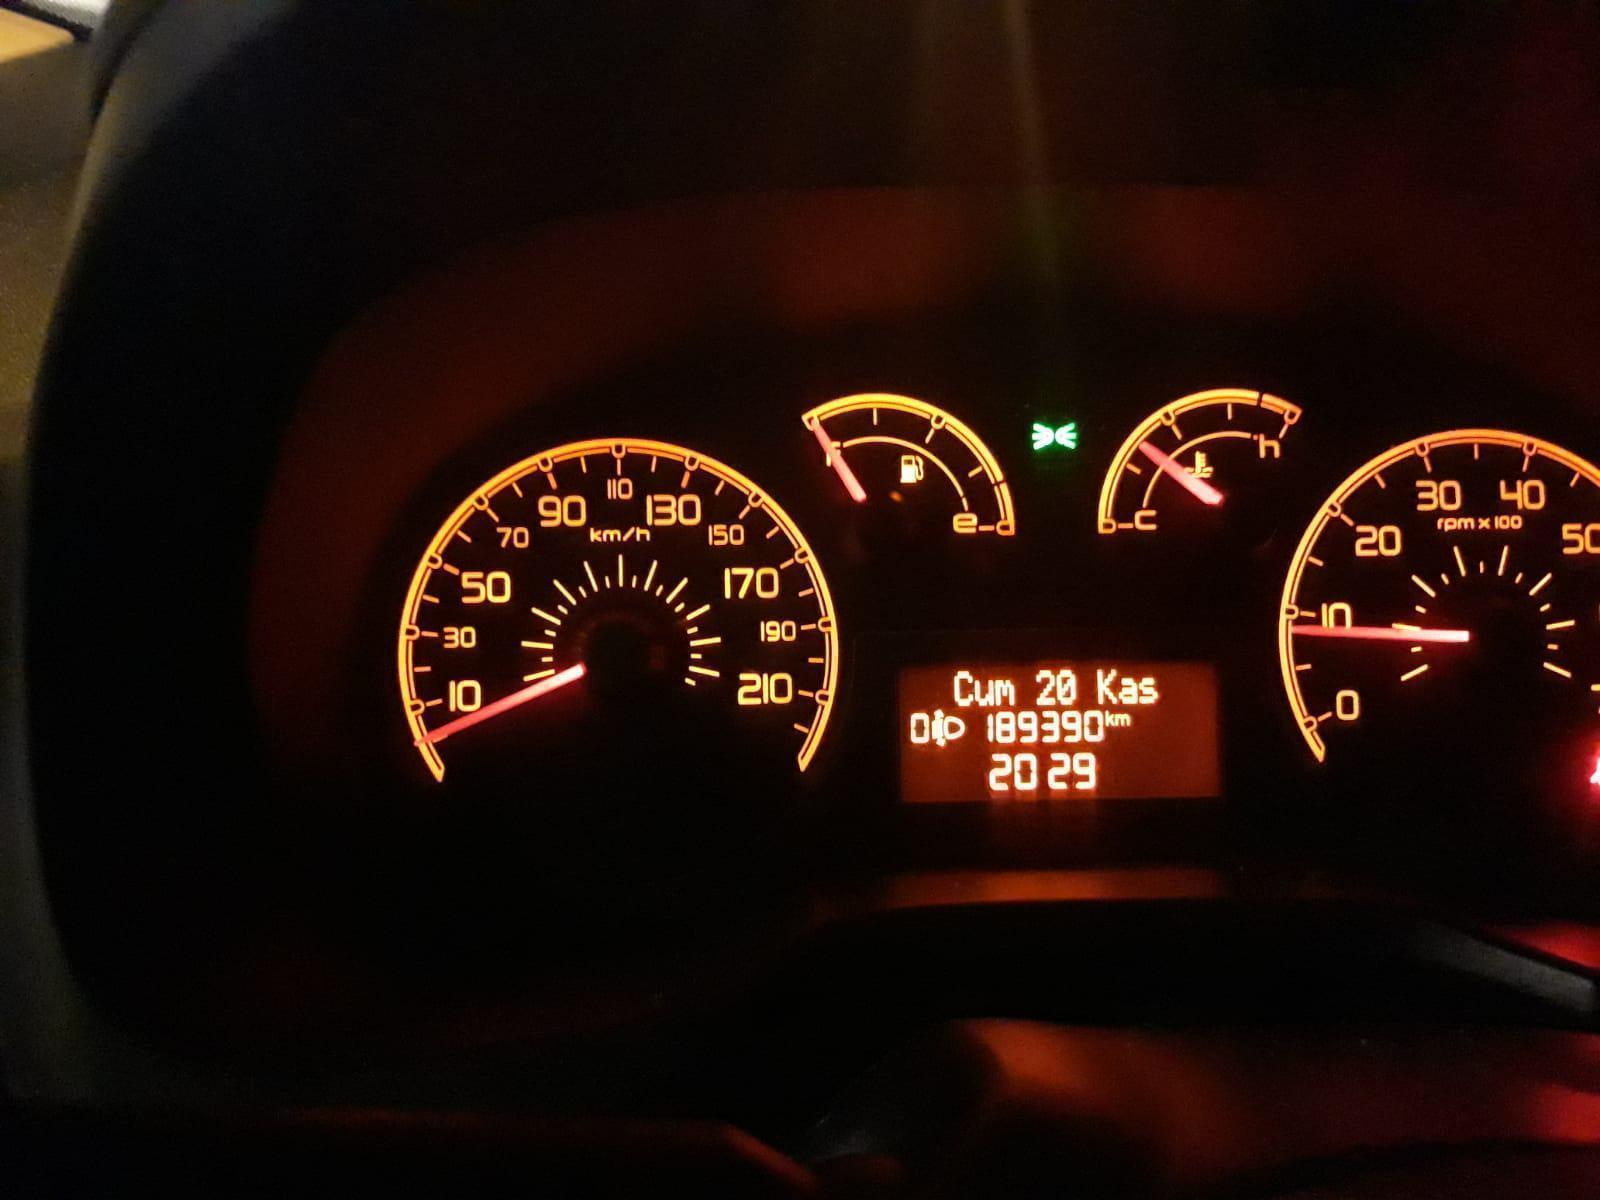0: (1012, 751, 1038, 792), (1056, 668, 1078, 706), (1083, 708, 1105, 744), (908, 711, 929, 745)
1: (984, 711, 995, 744)
2: (1044, 751, 1071, 792), (988, 753, 1012, 793), (1033, 668, 1056, 705)
3: (1039, 708, 1061, 744)
8: (995, 708, 1017, 745)
9: (1072, 751, 1099, 792), (1015, 710, 1039, 746), (1061, 708, 1083, 742)
X: (1095, 667, 1117, 705), (952, 669, 974, 708), (1136, 676, 1162, 705), (993, 678, 1015, 707), (973, 678, 994, 708), (1117, 676, 1138, 705), (1114, 712, 1133, 729), (1104, 708, 1115, 729)
odometer: (883, 652, 1233, 816)
